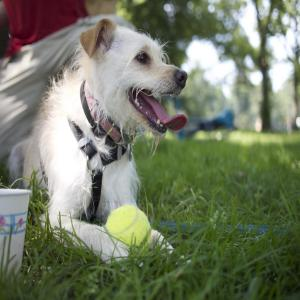TennisBall: (103, 204, 155, 258)
